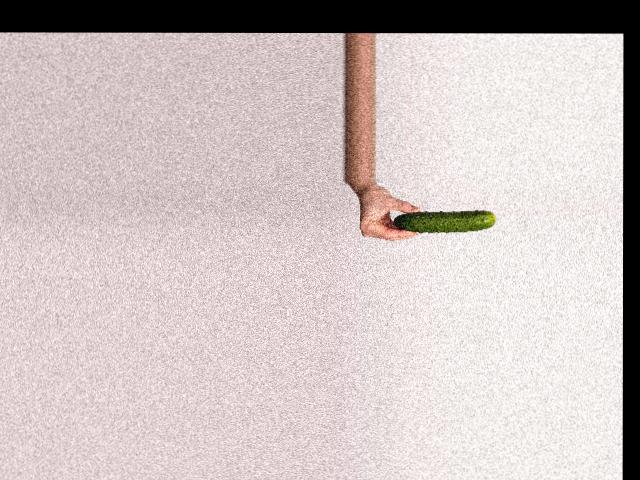cucumber: (393, 212, 495, 232)
